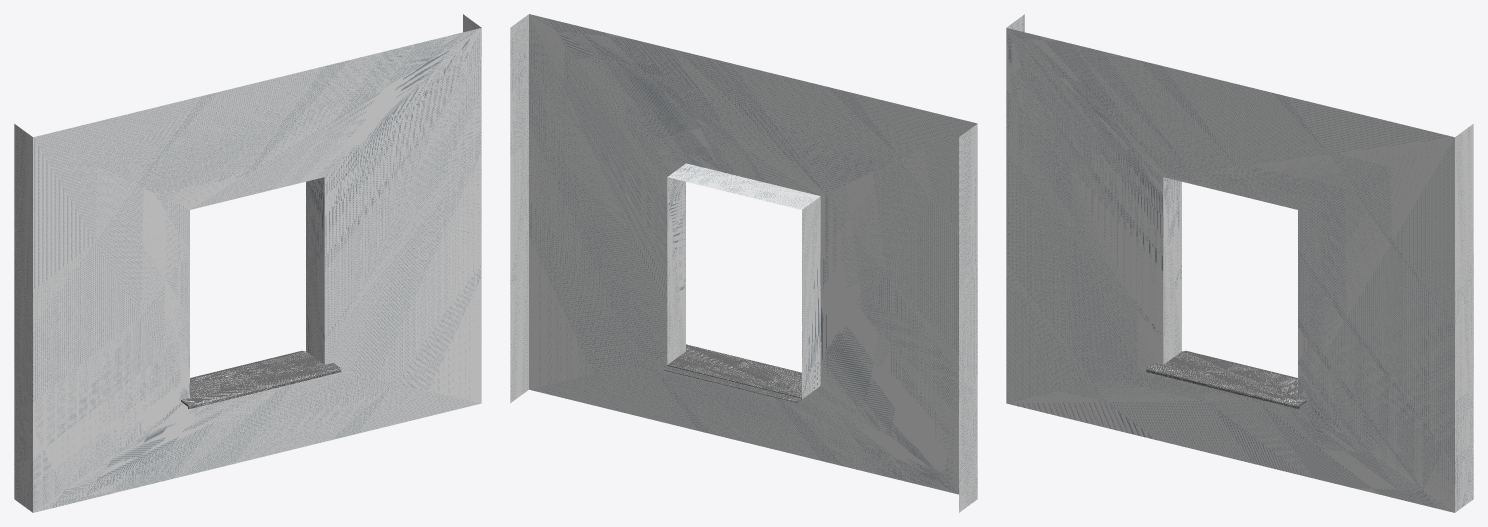
File: WindowBlock_os_[500x400]_150x200x[080].dae
3 views of the same model, side by side, from view 1: azimuth 30°, elevation 25°; view 2: azimuth 150°, elevation 25°; view 3: azimuth 330°, elevation 25° (orthographic).
Visible parts, largest first — view 1: group_2 (×2), group_1; view 2: group_2 (×2), group_1 (×2); view 3: group_2 (×2), group_1.
Part boxes in pixels (bbox=[...]): group_2 (×2): bbox=[14, 14, 481, 512]; group_1: bbox=[181, 351, 341, 408]; group_2 (×2): bbox=[510, 14, 977, 512]; group_1 (×2): bbox=[664, 344, 801, 402]; group_2 (×2): bbox=[1006, 14, 1473, 512]; group_1: bbox=[1146, 351, 1306, 408].
Size of the model in its own units: 197 by 23.03 by 157.
